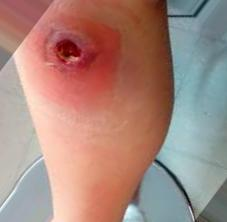Spider: (15, 9, 123, 115)
